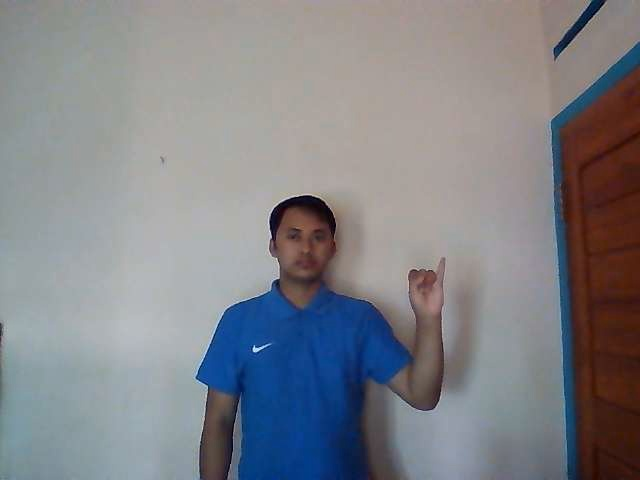I: (407, 256, 448, 318)
